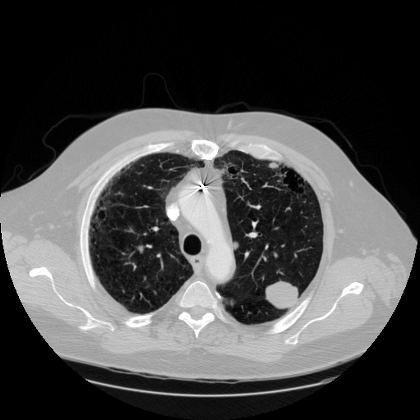nodule: (268, 161, 276, 169)
